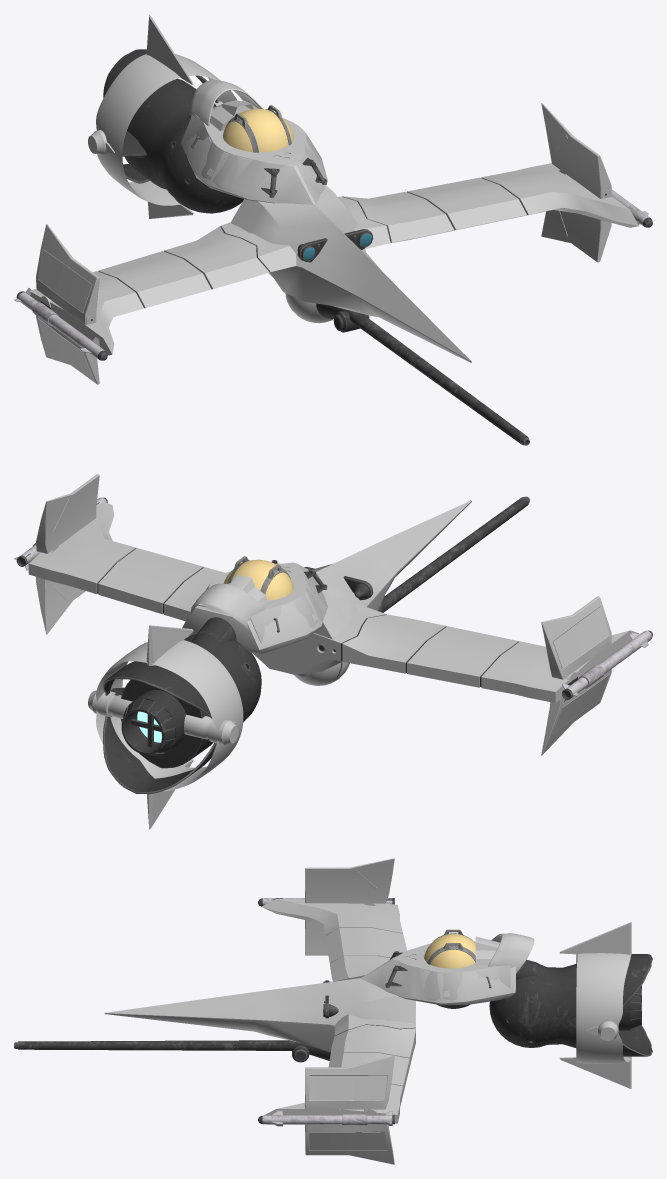
The picture shows the model from 3 angles, top to bottom: view 1: azimuth 30°, elevation 25°; view 2: azimuth 150°, elevation 25°; view 3: azimuth 270°, elevation 25°; orthographic projection. The views are drawn at different scales.
Parts seen in each view (by area): view 1: SF2; view 2: SF2; view 3: SF2.
Boxes of the visible parts, x1,y1,x2,y2 form: SF2: (14,15,652,445); SF2: (14,474,652,829); SF2: (14,858,652,1164).
Size of the model in its own units: 15 by 5.19 by 17.97.
